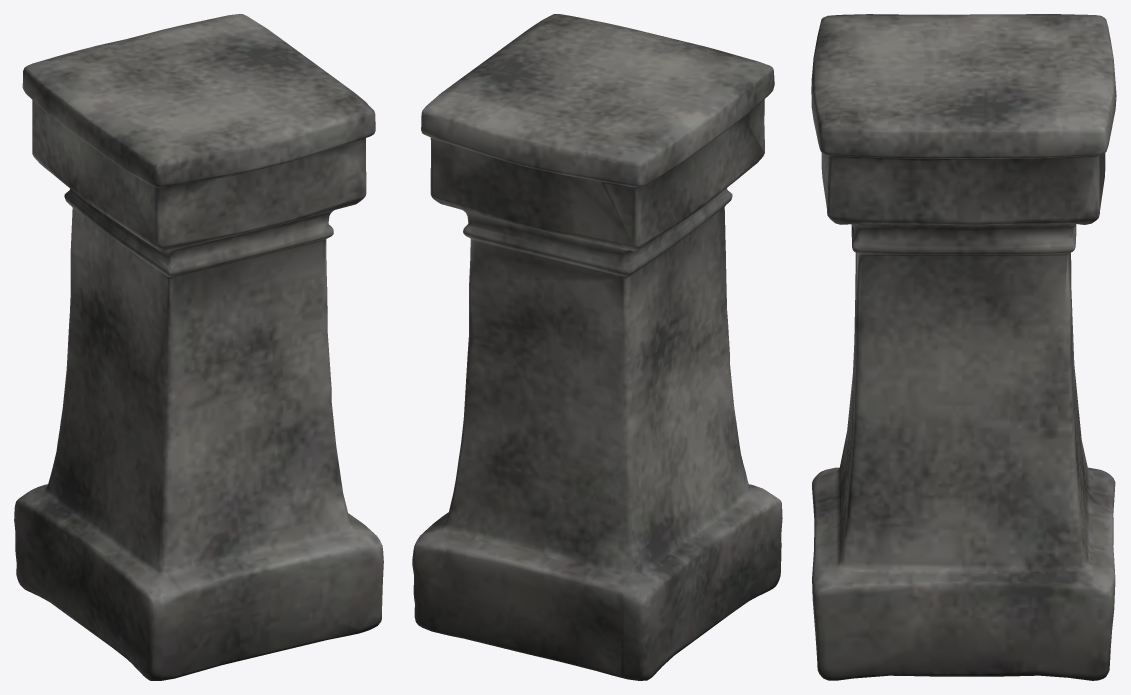
File: weathered-granite-chimney-stack-v001.glb
3 renders of one model, left to right at view 1: azimuth 30°, elevation 25°; view 2: azimuth 150°, elevation 25°; view 3: azimuth 270°, elevation 25°, orthographic. The views are drawn at different scales.
Parts seen in each view (by area): view 1: weathered-granite-chimney-stack; view 2: weathered-granite-chimney-stack; view 3: weathered-granite-chimney-stack.
Boxes of the visible parts, x1,y1,x2,y2 form: weathered-granite-chimney-stack: [14, 14, 383, 680]; weathered-granite-chimney-stack: [412, 14, 782, 680]; weathered-granite-chimney-stack: [811, 14, 1116, 680].
Bounding box in the file's own units: 0.8789 × 1.88 × 0.934.
Materials: 1 (1 with a texture image).
